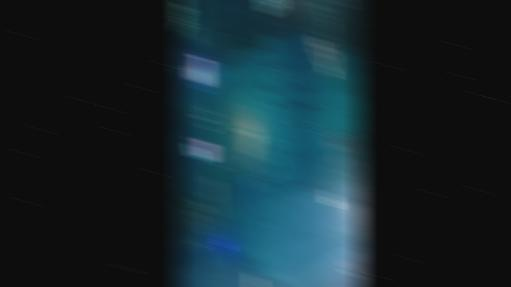Fish: (312, 36, 335, 80), (296, 177, 321, 192), (328, 150, 345, 171), (335, 128, 350, 151), (259, 0, 282, 14), (328, 130, 343, 151), (348, 149, 363, 168), (352, 128, 363, 150), (322, 191, 337, 206), (343, 261, 358, 276), (260, 162, 273, 179), (246, 175, 259, 190), (265, 155, 278, 170), (282, 64, 293, 81), (261, 178, 274, 191), (263, 80, 274, 93), (238, 68, 249, 80), (253, 76, 263, 89), (264, 97, 275, 107), (249, 55, 258, 66), (266, 65, 275, 76), (262, 57, 271, 67), (293, 103, 314, 107), (255, 57, 264, 66), (243, 82, 252, 90), (345, 264, 355, 270), (341, 0, 351, 6), (296, 179, 305, 185)
